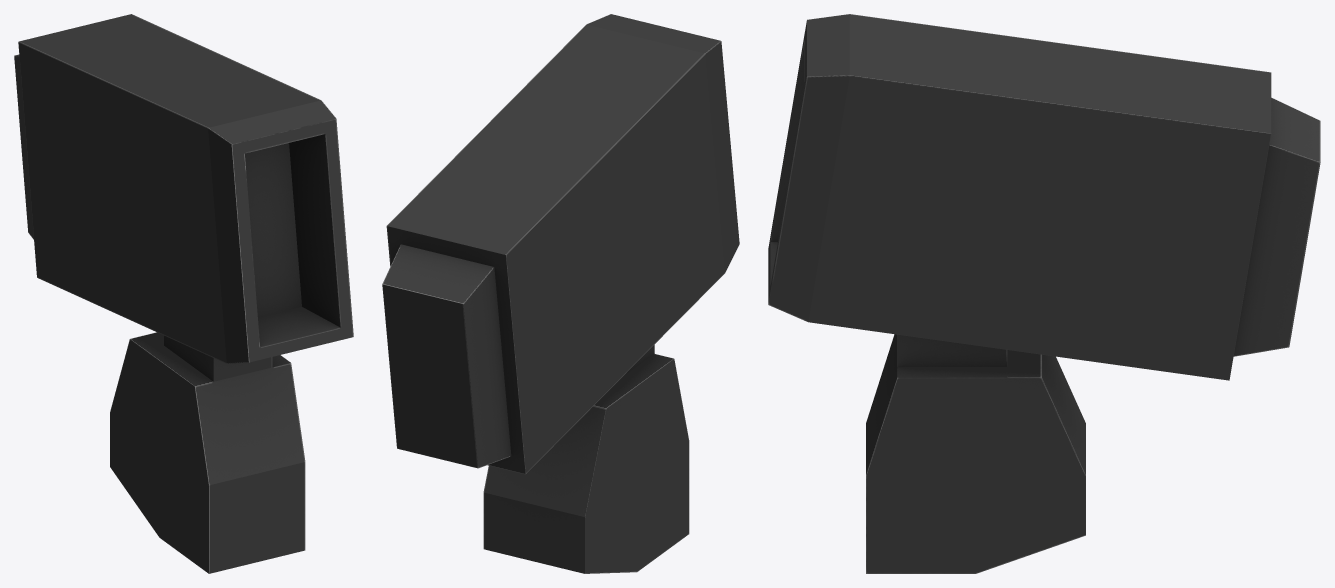
The picture shows the model from 3 angles, left to right: view 1: azimuth 30°, elevation 25°; view 2: azimuth 150°, elevation 25°; view 3: azimuth 270°, elevation 25°; orthographic projection. The views are drawn at different scales.
Visible parts, largest first — view 1: Cube.006; view 2: Cube.006; view 3: Cube.006.
Part boxes in pixels (x1,y1,x2,y2): Cube.006: (14,14,353,573); Cube.006: (382,14,739,573); Cube.006: (768,14,1320,573).
Size of the model in its own units: 0.6818 by 2.61 by 2.59.
Materials: 1 (1 with a texture image).
